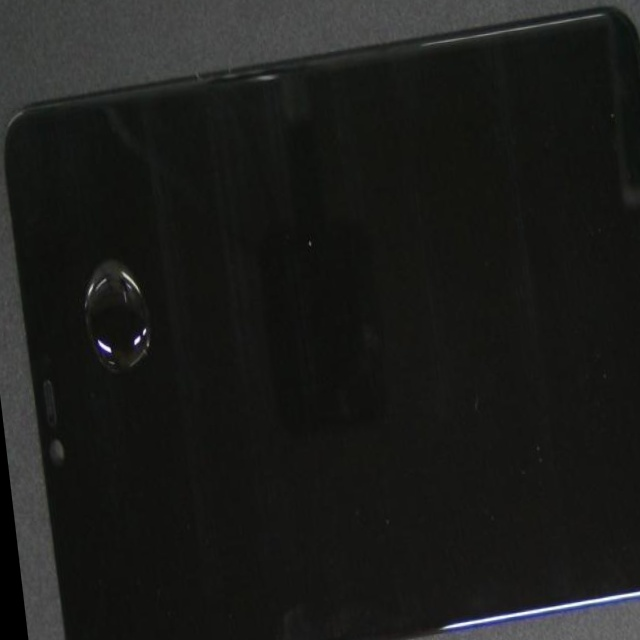oil: (77, 170, 229, 444)
